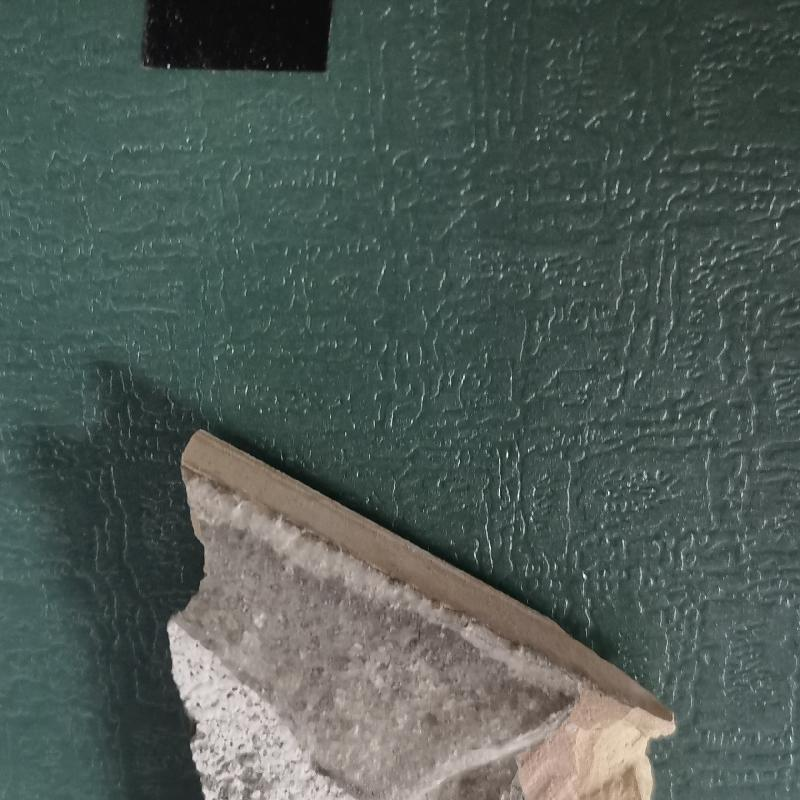tile: (151, 408, 680, 800)
